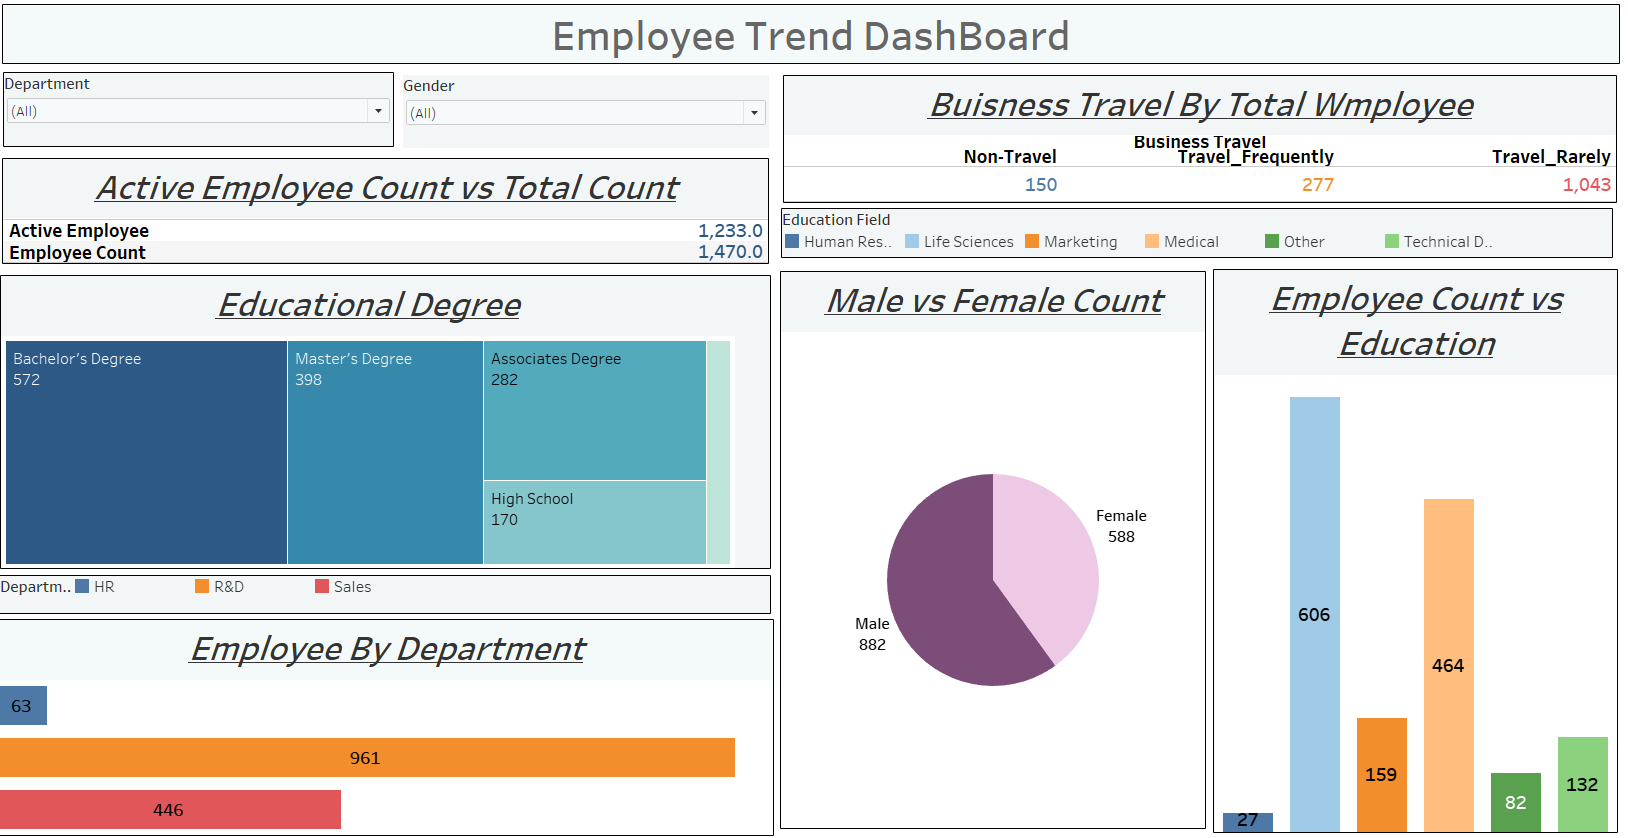

The dashboard page shown, as its layout file describes it:
{"tool":"tableau","page":{"name":"Dashboard","canvas":[1000,1000],"units":"permille","ordinal":0},"visuals":[{"type":"text","box":[7.9,22.9,980.5,70.2]},{"type":"filter","title":"Column Chart","param":"[federated.1e3ddai1qgg5ih17camkz1ijj9i5].[none:department:nk]","box":[8.5,102.6,237.2,87.7]},{"type":"filter","title":"Column Chart","param":"[federated.1e3ddai1qgg5ih17camkz1ijj9i5].[none:gender:nk]","box":[250.6,105.3,222,85]},{"type":"worksheet","title":"Sheet 6","mark":"Automatic","cols":["business_travel"],"box":[481.2,106,505.4,148.4]},{"type":"worksheet","title":"Sheet 5","mark":"Automatic","box":[7.9,202.4,464.7,122.8]},{"type":"legend","title":"Column Chart","param":"[federated.1e3ddai1qgg5ih17camkz1ijj9i5].[none:education_field:nk]","box":[480,260.6,504.2,58.6]},{"type":"worksheet","title":"Column Chart","mark":"Automatic","rows":["employee_count"],"cols":["education_field"],"box":[741.8,331.7,245.5,655.9]},{"type":"worksheet","title":"Sheet 3","mark":"Pie","box":[479.4,334.2,258.2,648.4]},{"type":"worksheet","title":"Sheet 4","mark":"Automatic","box":[6.7,338.7,467.2,341.4]},{"type":"legend","title":"department","param":"[federated.1e3ddai1qgg5ih17camkz1ijj9i5].[none:department:nk]","box":[6.1,686.9,467.8,45.9]},{"type":"worksheet","title":"department","mark":"Automatic","rows":["department"],"cols":["employee_count"],"box":[5.5,738.2,470.2,252.4]}]}

Visuals, with their boxes on the dashboard's canvas, which has no fixed pixel size, in thousandths of its width and height (x1, y1, x2, y2). These are canvas units, not pixel positions in the 1628x838 screenshot, which may show the page scaled, cropped or inside an application window:
text: [left=8, top=23, right=988, bottom=93]
"Column Chart" filter: [left=8, top=103, right=246, bottom=190]
"Column Chart" filter: [left=251, top=105, right=473, bottom=190]
"Sheet 6" worksheet: [left=481, top=106, right=987, bottom=254]
"Sheet 5" worksheet: [left=8, top=202, right=473, bottom=325]
"Column Chart" legend: [left=480, top=261, right=984, bottom=319]
"Column Chart" worksheet: [left=742, top=332, right=987, bottom=988]
"Sheet 3" worksheet (Pie marks): [left=479, top=334, right=738, bottom=983]
"Sheet 4" worksheet: [left=7, top=339, right=474, bottom=680]
"department" legend: [left=6, top=687, right=474, bottom=733]
"department" worksheet: [left=6, top=738, right=476, bottom=991]
